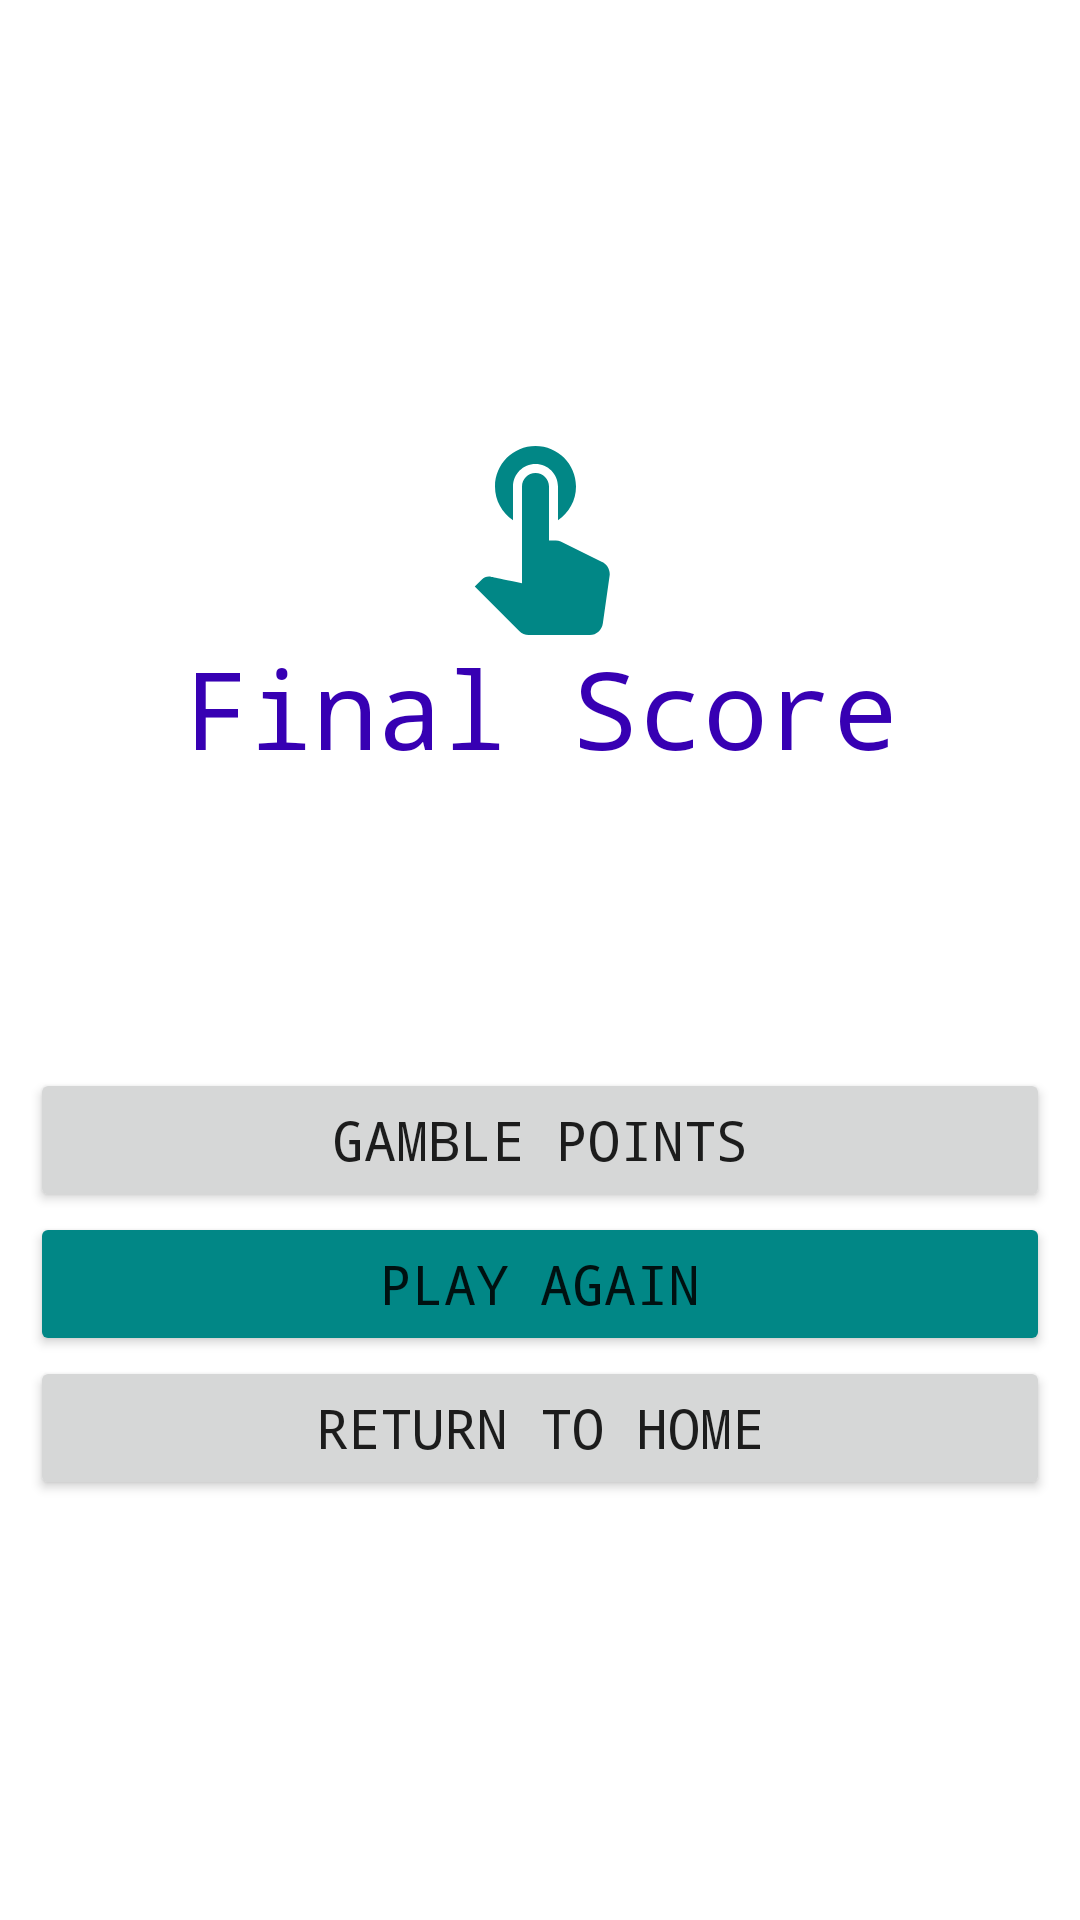

Where icons sit on this 1080*1920 app screen, as detection(x1, y1, x2, y2):
Icon for touching screen: detection(475, 446, 610, 635)
